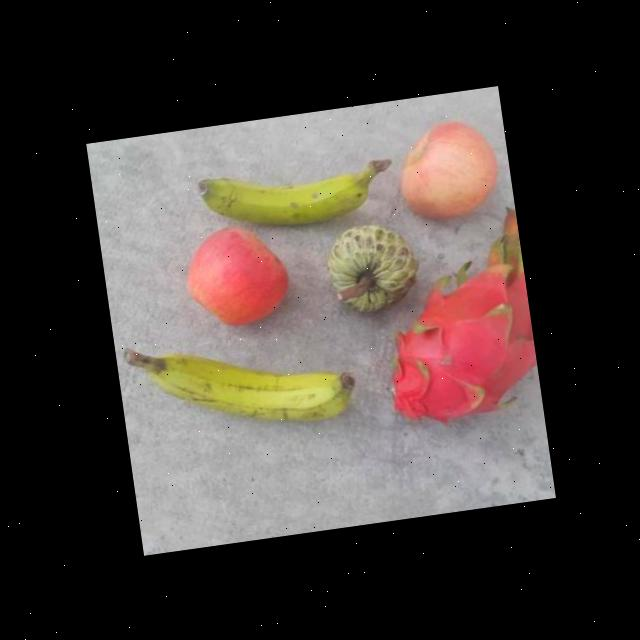Sakya fruit: (321, 217, 422, 318)
apple: (178, 218, 294, 332), (390, 113, 505, 224)
banana: (122, 316, 368, 450), (196, 152, 400, 238)
pitaya: (367, 204, 543, 434)
